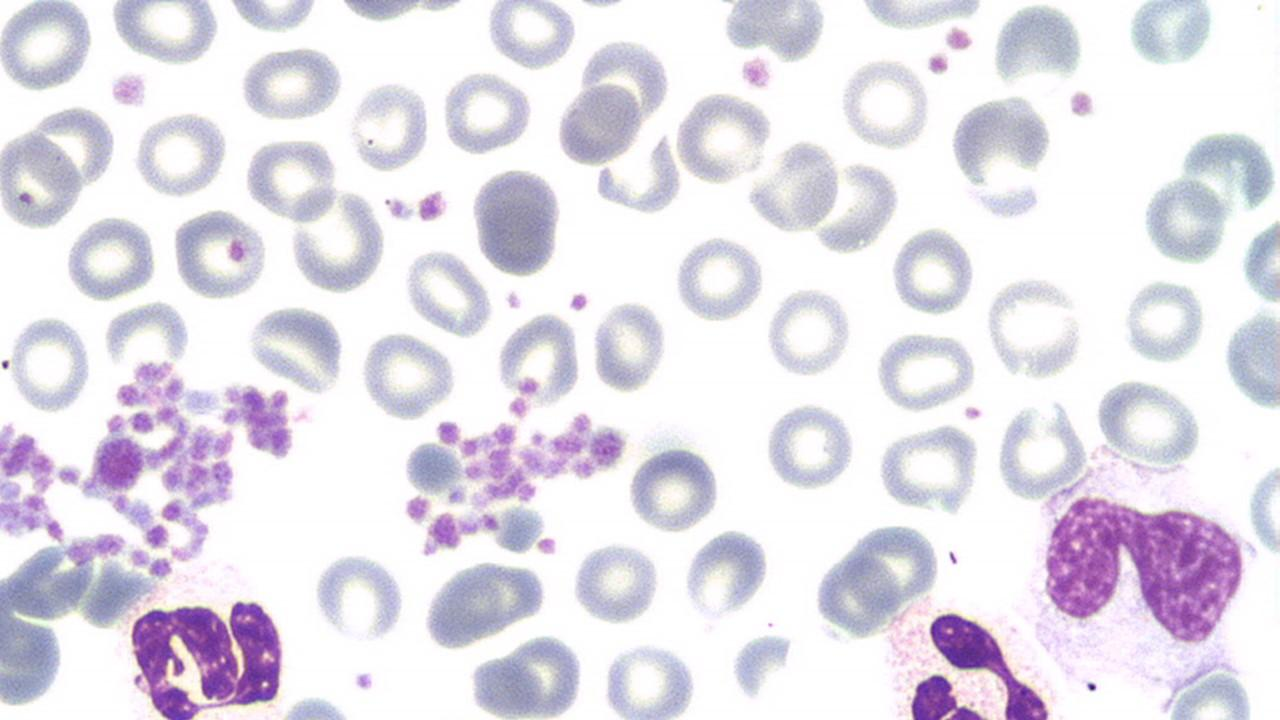Platelets: (588, 422, 630, 472), (106, 67, 151, 110), (736, 52, 776, 92), (428, 510, 462, 553), (414, 188, 450, 227), (267, 422, 297, 462), (942, 24, 978, 54), (382, 195, 418, 224), (1066, 87, 1096, 121), (402, 495, 433, 525), (938, 485, 965, 518), (54, 461, 84, 490), (434, 419, 464, 446), (568, 409, 594, 439), (351, 667, 378, 695), (924, 50, 952, 76), (570, 455, 596, 481), (565, 290, 592, 314), (507, 396, 532, 420), (501, 288, 524, 312), (447, 486, 467, 506), (422, 533, 440, 555)
RBC: (948, 92, 1054, 218), (285, 184, 387, 296), (982, 274, 1087, 381), (468, 165, 566, 278), (811, 530, 905, 642), (1094, 374, 1204, 466), (994, 398, 1088, 502), (308, 549, 408, 646), (876, 422, 981, 514), (744, 138, 842, 235), (170, 207, 270, 301), (245, 302, 347, 394), (672, 92, 773, 184), (357, 330, 459, 420), (762, 398, 858, 492), (838, 57, 932, 153), (0, 0, 94, 95), (872, 329, 978, 413), (130, 110, 230, 199), (5, 312, 92, 414), (808, 161, 902, 255), (402, 246, 495, 340), (671, 232, 765, 324), (680, 526, 770, 622), (241, 135, 340, 222), (0, 128, 84, 230), (238, 44, 344, 124), (627, 444, 721, 534), (1139, 172, 1227, 268), (419, 563, 512, 653), (764, 286, 854, 379), (1117, 276, 1209, 366), (64, 213, 159, 300), (441, 68, 534, 155), (347, 77, 432, 172), (599, 639, 701, 718), (888, 224, 975, 316), (570, 540, 662, 626), (991, 2, 1085, 86), (495, 309, 579, 403), (554, 79, 642, 168), (109, 0, 221, 66), (591, 298, 667, 393), (718, 3, 830, 64), (1123, 1, 1217, 72), (484, 1, 577, 69), (1222, 307, 1280, 413), (726, 634, 790, 700), (1239, 212, 1279, 310), (859, 0, 980, 31), (1247, 454, 1279, 564), (400, 439, 460, 494), (224, 0, 323, 33), (278, 690, 352, 718)
WBC: (1022, 446, 1264, 710), (121, 564, 295, 720), (888, 604, 1062, 716)
